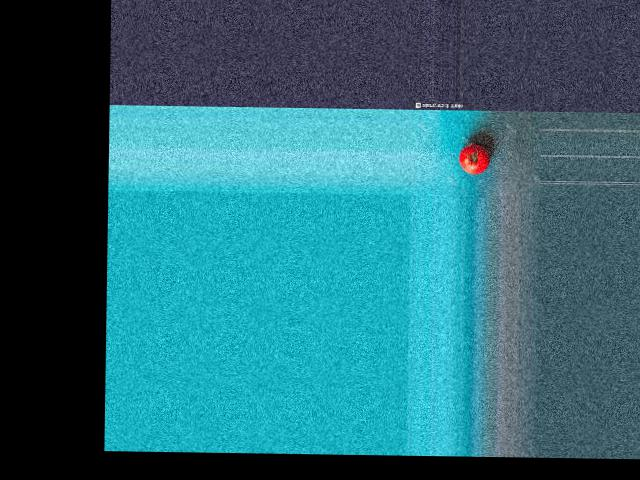tomato: (459, 142, 490, 174)
